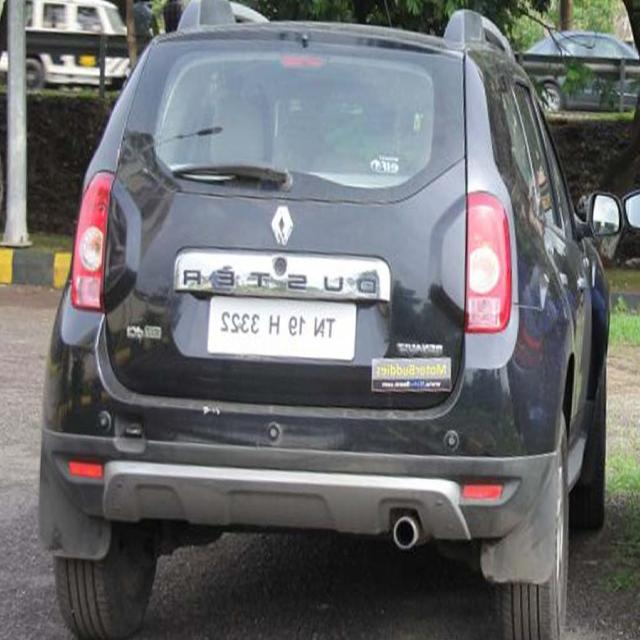number-plate: (209, 298, 361, 349)
